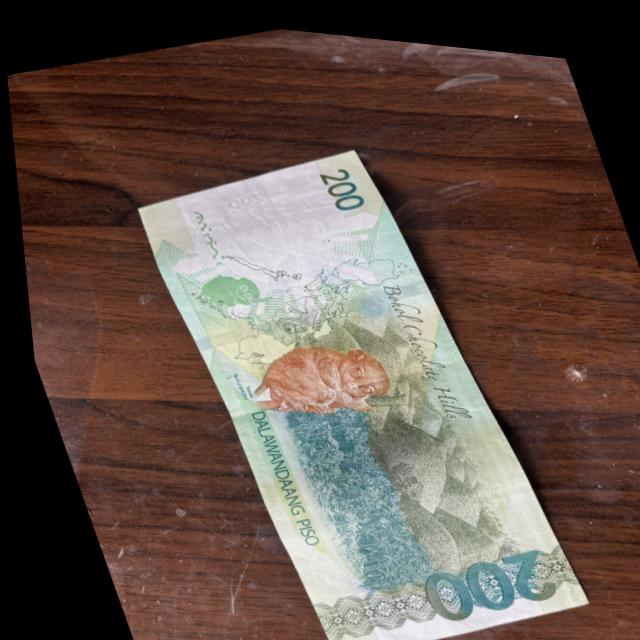200_tarsier: (207, 305, 411, 447)
200_tarsier_watermark: (169, 250, 268, 328)
value_watermark: (214, 169, 272, 212)
